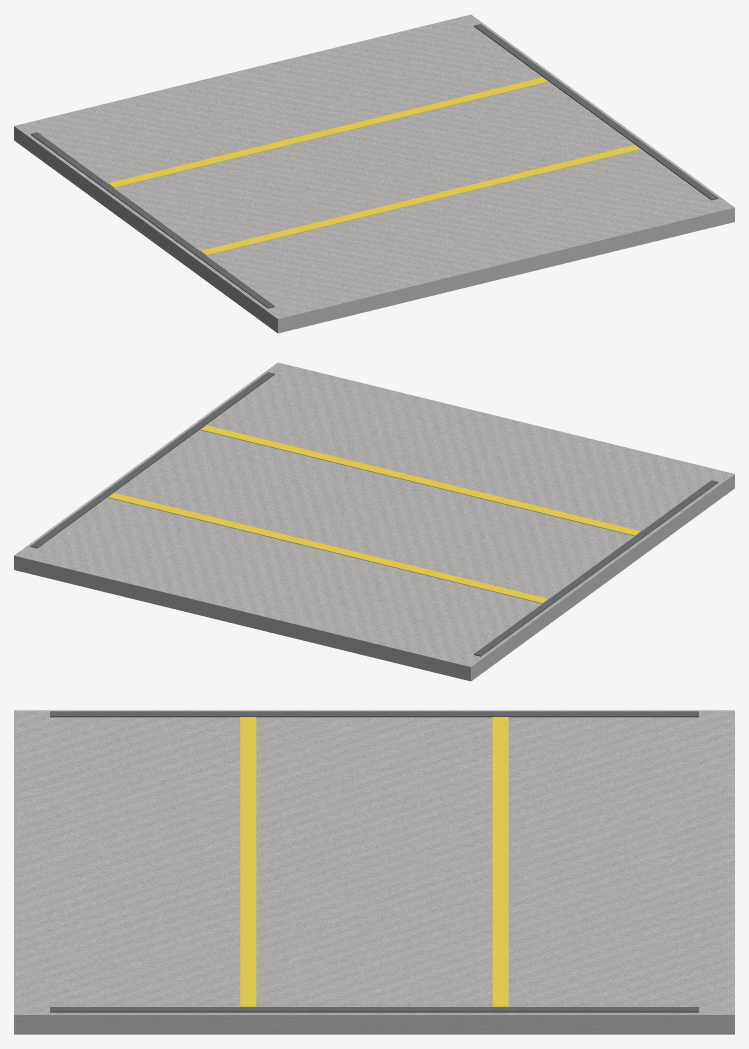
The model's file is woodworking-workshop-and-joinery-woodworking-workshop--b3d6531b__34235.glb.
The picture shows the model from 3 angles, top to bottom: view 1: azimuth 30°, elevation 25°; view 2: azimuth 150°, elevation 25°; view 3: azimuth 270°, elevation 25°; orthographic projection. The views are drawn at different scales.
Parts seen in each view (by area): view 1: woodworking-workshop-and-joinery-workshop-floor-tile-walkway (×3); view 2: woodworking-workshop-and-joinery-workshop-floor-tile-walkway (×3); view 3: woodworking-workshop-and-joinery-workshop-floor-tile-walkway (×3).
Part boxes in pixels (x1,y1,x2,y2): woodworking-workshop-and-joinery-workshop-floor-tile-walkway (×3): (14,14,734,333); woodworking-workshop-and-joinery-workshop-floor-tile-walkway (×3): (14,362,734,681); woodworking-workshop-and-joinery-workshop-floor-tile-walkway (×3): (14,710,734,1034).
Bounding box in the file's own units: 4 × 0.1281 × 4.
3 materials, 1 textured.
